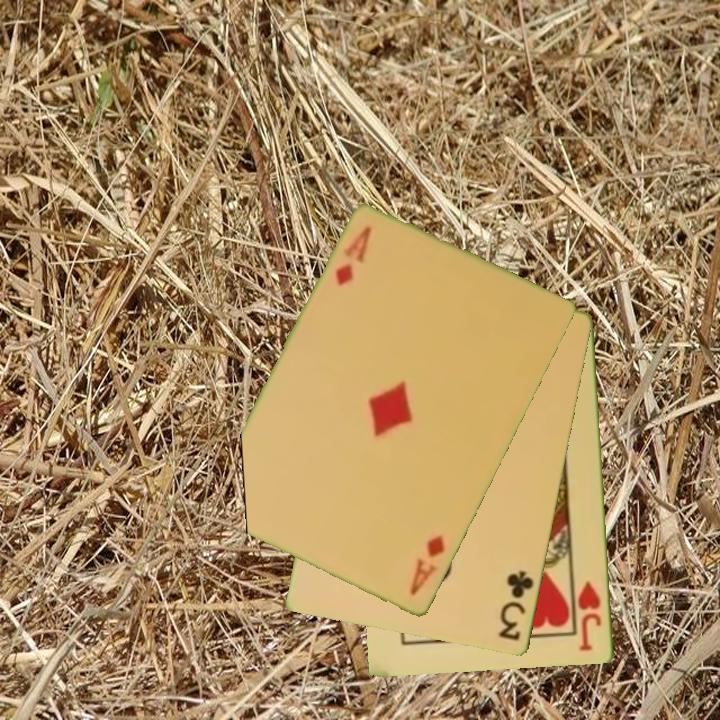3c: (495, 567, 537, 644)
Ad: (406, 531, 449, 600), (331, 223, 375, 289)
Jh: (575, 578, 604, 655)
